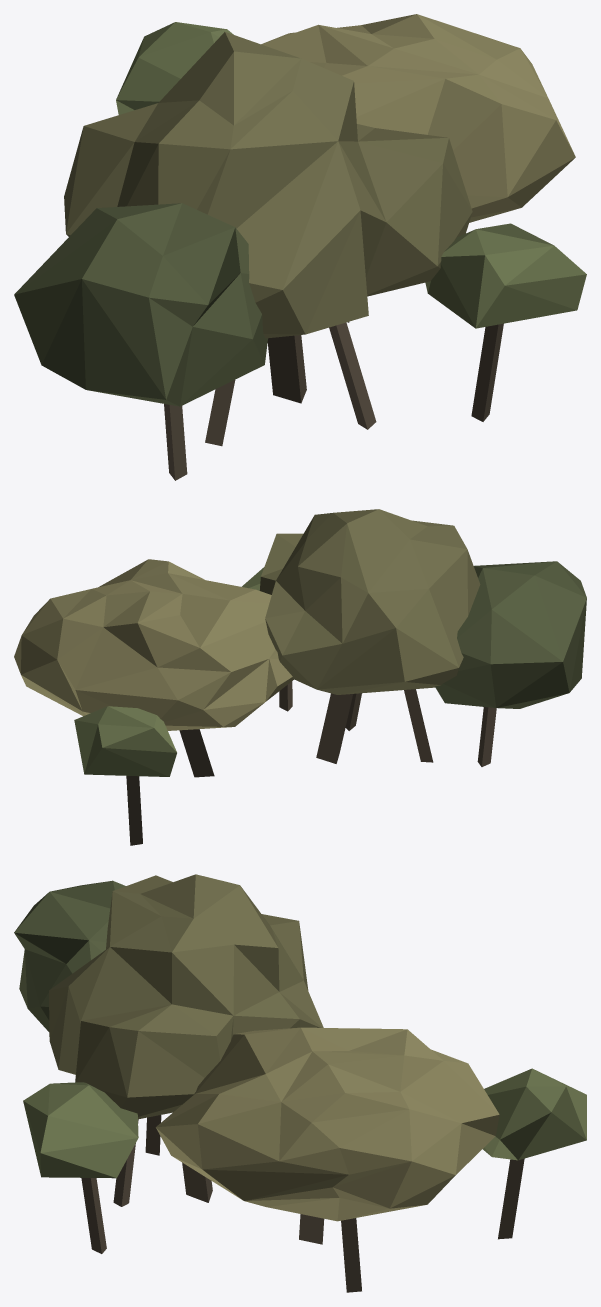
The model's file is SM_Env_Bush_Group_02.glb.
3 views of the same model, one above another, from view 1: azimuth 30°, elevation 25°; view 2: azimuth 150°, elevation 25°; view 3: azimuth 270°, elevation 25° (orthographic). The views are drawn at different scales.
Visible parts, largest first — view 1: SM_Env_Bush_Group_02; view 2: SM_Env_Bush_Group_02; view 3: SM_Env_Bush_Group_02.
Boxes of the visible parts, bbox=[...] form: SM_Env_Bush_Group_02: bbox=[14, 14, 586, 480]; SM_Env_Bush_Group_02: bbox=[14, 509, 586, 845]; SM_Env_Bush_Group_02: bbox=[14, 874, 586, 1292].
Bounding box in the file's own units: 3.36 × 1.87 × 3.22.
Materials: 1 (1 with a texture image).
